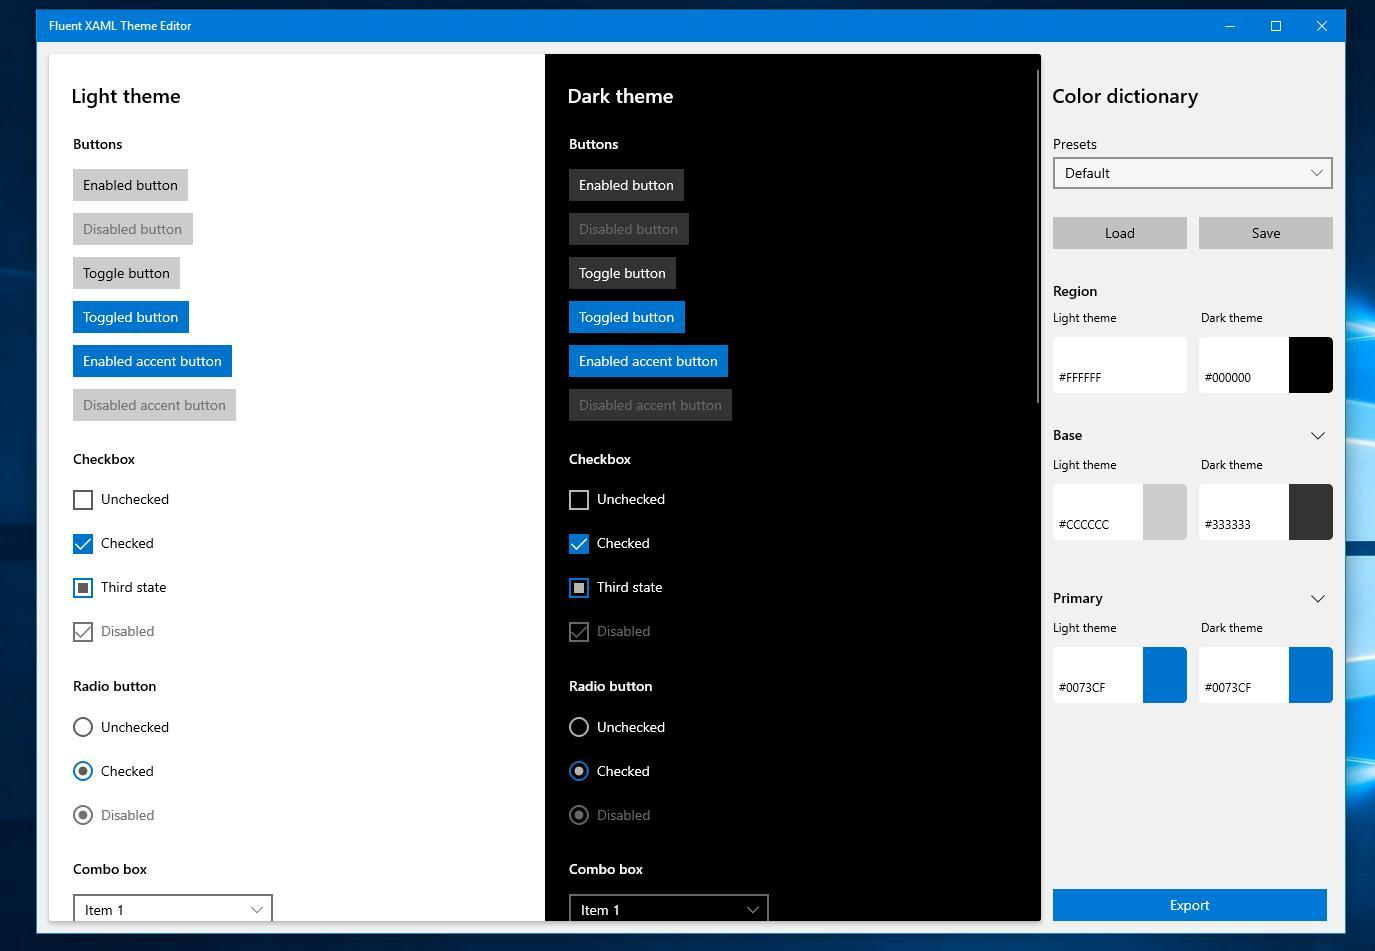button: (1055, 891, 1329, 921), (1056, 338, 1188, 396), (1055, 484, 1187, 541), (1201, 338, 1334, 394), (1201, 648, 1333, 704), (1054, 649, 1187, 704), (1201, 487, 1334, 540), (570, 346, 730, 380), (74, 389, 238, 422), (570, 392, 735, 422), (76, 347, 233, 377), (74, 213, 195, 247), (570, 213, 691, 246), (1054, 219, 1187, 249), (572, 303, 687, 335), (1199, 219, 1334, 247), (75, 302, 190, 332), (570, 171, 685, 201), (75, 171, 188, 200), (75, 259, 181, 288), (573, 260, 676, 289)
checkbox: (570, 535, 591, 556), (74, 535, 94, 555), (74, 579, 93, 599), (75, 623, 94, 643), (570, 493, 590, 512), (74, 491, 93, 509), (570, 581, 589, 599), (572, 624, 589, 643)
dropdown: (1054, 157, 1334, 190), (572, 896, 768, 925), (75, 894, 272, 922)
label: (1053, 80, 1203, 117), (68, 89, 189, 111), (74, 675, 161, 703), (562, 861, 652, 882), (71, 857, 154, 878), (598, 761, 659, 788), (101, 576, 170, 600), (567, 453, 638, 475), (101, 717, 174, 739), (1195, 621, 1276, 641), (1047, 592, 1113, 614), (598, 494, 672, 514), (1051, 622, 1125, 642), (596, 717, 669, 737), (100, 761, 158, 786), (1050, 309, 1126, 328), (1197, 458, 1268, 478), (101, 533, 162, 556), (1201, 307, 1266, 328), (596, 582, 665, 602), (567, 682, 654, 698), (99, 492, 176, 510), (1052, 457, 1121, 475), (596, 623, 654, 645), (71, 133, 131, 154), (100, 622, 162, 642), (597, 808, 655, 829), (569, 135, 622, 158), (99, 808, 163, 827), (75, 453, 135, 471), (597, 538, 655, 557), (1053, 137, 1099, 153), (1053, 430, 1090, 447)
radio: (570, 713, 591, 742), (73, 716, 96, 742), (72, 758, 95, 784), (569, 804, 591, 830), (73, 804, 96, 828), (570, 760, 590, 786)
